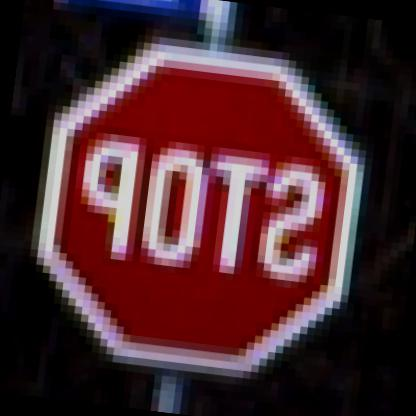stop: (12, 14, 376, 394)
